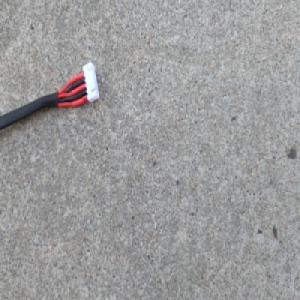Wire: (0, 59, 102, 136)
